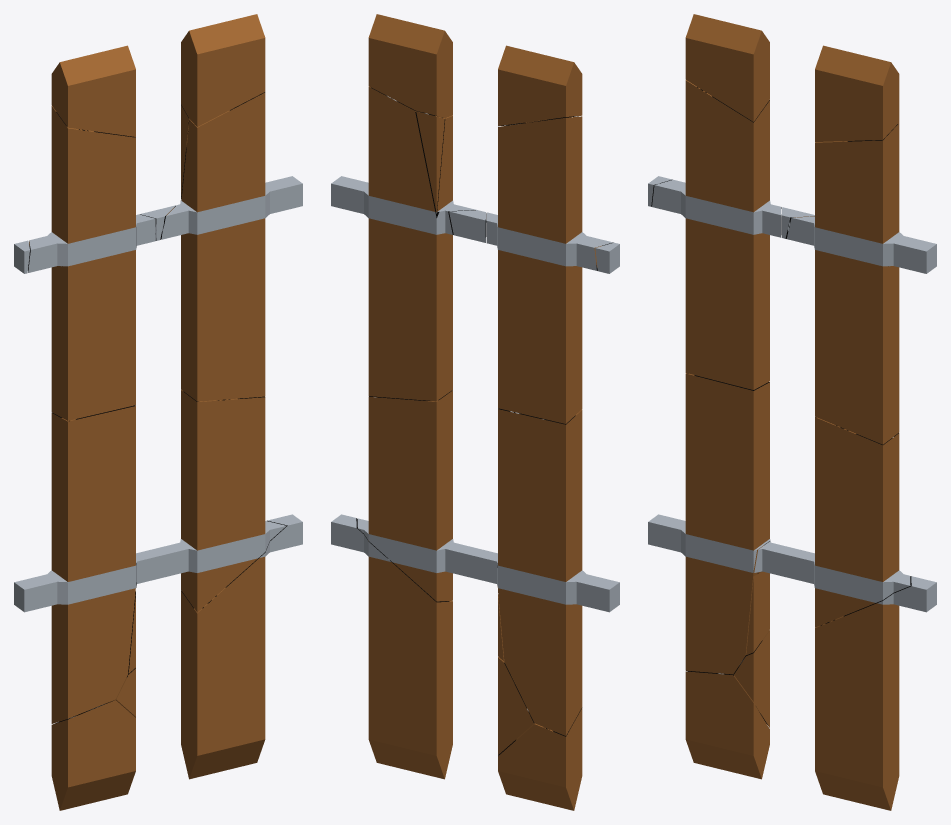
The model's file is fenceDest.fbx.
3 renders of one model, left to right at view 1: azimuth 30°, elevation 25°; view 2: azimuth 150°, elevation 25°; view 3: azimuth 330°, elevation 25°, orthographic.
Parts seen in each view (by area): view 1: Fence_cell.004, Fence_cell.003, Fence_cell.009, Fence_cell.001, Fence_cell.005, Fence_cell.007, Fence_cell.002, Fence_cell.008; view 2: Fence_cell.009, Fence_cell.003, Fence_cell.004, Fence_cell.005, Fence_cell.001, Fence_cell.007, Fence_cell.002, Fence_cell.008, Fence_cell.006; view 3: Fence_cell.004, Fence_cell.009, Fence_cell.003, Fence_cell.005, Fence_cell.001, Fence_cell.007, Fence_cell.002.
Part boxes in pixels (bbox=[...]): Fence_cell.004: bbox=[161, 92, 302, 401]; Fence_cell.003: bbox=[14, 405, 136, 723]; Fence_cell.009: bbox=[28, 106, 155, 420]; Fence_cell.001: bbox=[128, 390, 286, 673]; Fence_cell.005: bbox=[101, 514, 302, 779]; Fence_cell.007: bbox=[51, 14, 265, 136]; Fence_cell.002: bbox=[51, 700, 135, 810]; Fence_cell.008: bbox=[139, 104, 189, 240]; Fence_cell.009: bbox=[486, 116, 613, 423]; Fence_cell.003: bbox=[497, 408, 619, 735]; Fence_cell.004: bbox=[331, 86, 476, 401]; Fence_cell.005: bbox=[331, 514, 534, 779]; Fence_cell.001: bbox=[357, 390, 504, 661]; Fence_cell.007: bbox=[368, 14, 582, 126]; Fence_cell.002: bbox=[498, 707, 582, 810]; Fence_cell.008: bbox=[416, 111, 486, 242]; Fence_cell.006: bbox=[595, 242, 619, 273]; Fence_cell.004: bbox=[786, 123, 936, 444]; Fence_cell.009: bbox=[652, 80, 781, 389]; Fence_cell.003: bbox=[648, 373, 770, 675]; Fence_cell.005: bbox=[734, 576, 936, 810]; Fence_cell.001: bbox=[746, 417, 910, 655]; Fence_cell.007: bbox=[685, 14, 899, 141]; Fence_cell.002: bbox=[685, 671, 769, 779].
Size of the model in its own units: 0.8611 by 0.0879 by 2.21.
1 material, 1 textured.
